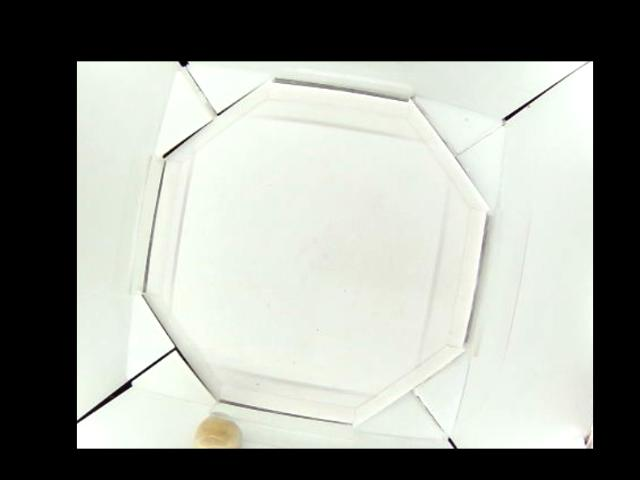Pebble: (193, 416, 243, 448)
